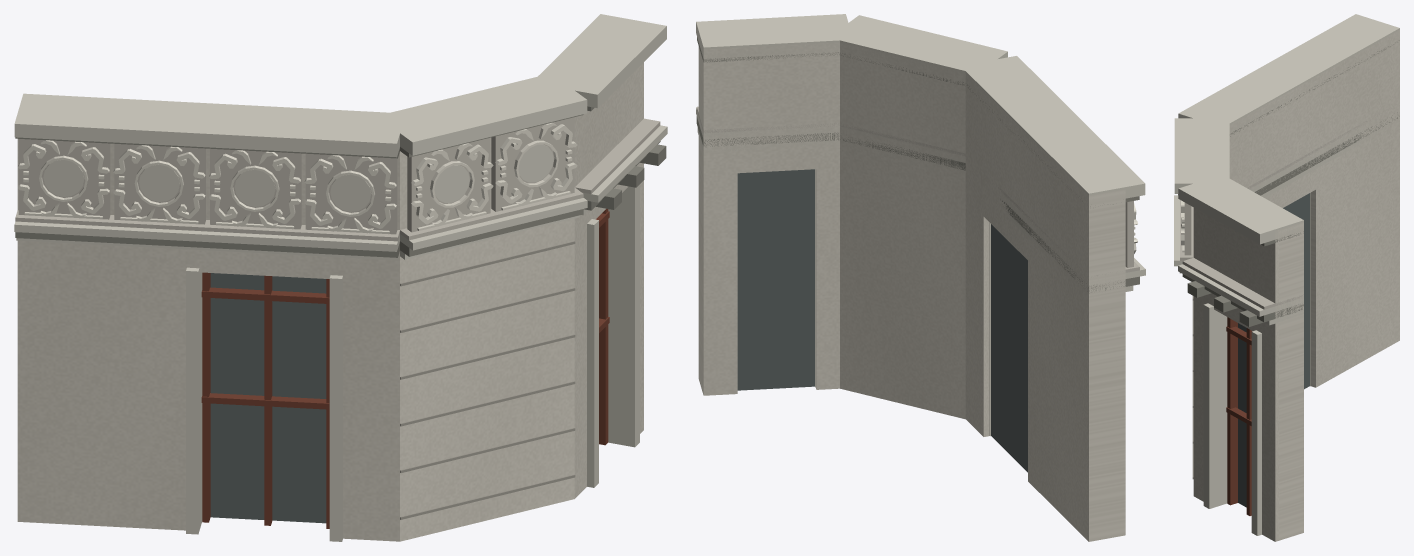
Rendered from huangpu-kung-wo-building-scroll-frieze-lod.glb.
3 renders of one model, left to right at view 1: azimuth 30°, elevation 25°; view 2: azimuth 150°, elevation 25°; view 3: azimuth 270°, elevation 25°, orthographic. The views are drawn at different scales.
Visible parts, largest first — view 1: 公和洋行大楼切角圆章与卷草檐带; view 2: 公和洋行大楼切角圆章与卷草檐带; view 3: 公和洋行大楼切角圆章与卷草檐带.
Part boxes in pixels (x1,y1,x2,y2): 公和洋行大楼切角圆章与卷草檐带: (14, 14, 667, 541); 公和洋行大楼切角圆章与卷草檐带: (696, 14, 1145, 541); 公和洋行大楼切角圆章与卷草檐带: (1174, 14, 1399, 541).
Size of the model in its own units: 6.08 by 4.02 by 2.63.
8 materials, 1 textured.
